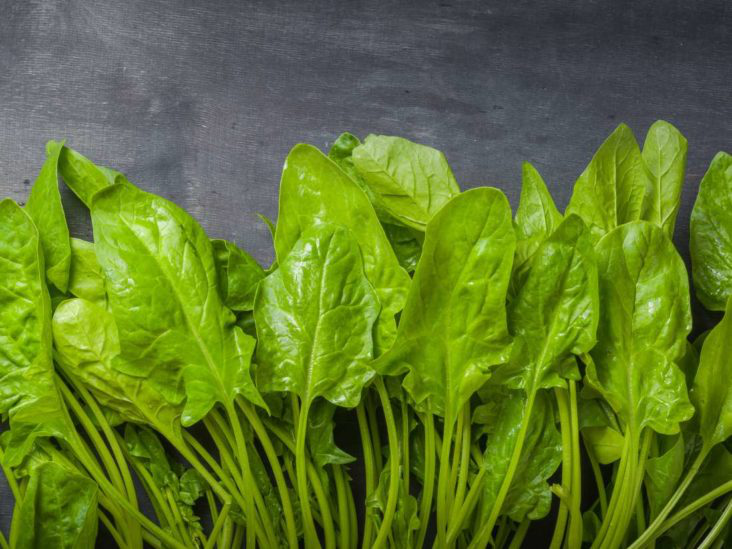Bayam: (1, 110, 732, 549)
